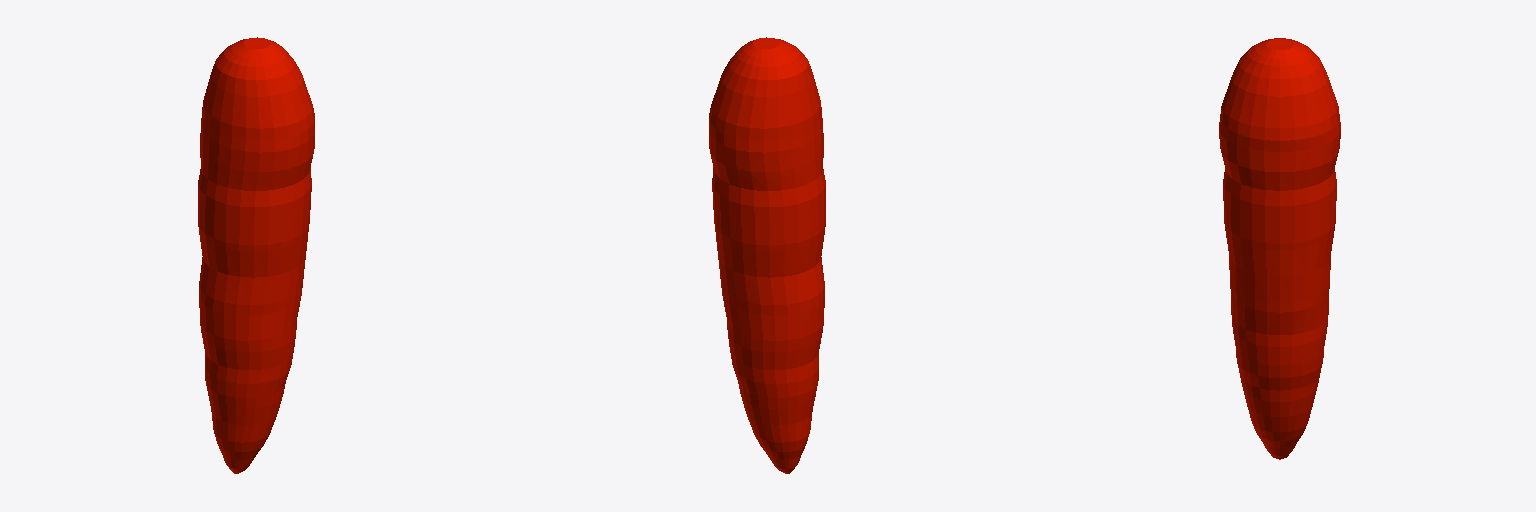
File: carrot.obj
3 views of the same model, side by side, from view 1: azimuth 30°, elevation 25°; view 2: azimuth 150°, elevation 25°; view 3: azimuth 270°, elevation 25° (orthographic).
Visible parts, largest first — view 1: Body; view 2: Body; view 3: Body.
Boxes of the visible parts, x1,y1,x2,y2 form: Body: [198, 37, 314, 473]; Body: [709, 37, 825, 473]; Body: [1219, 38, 1340, 459].
Bounding box in the file's own units: 5.72 × 22.89 × 5.99.